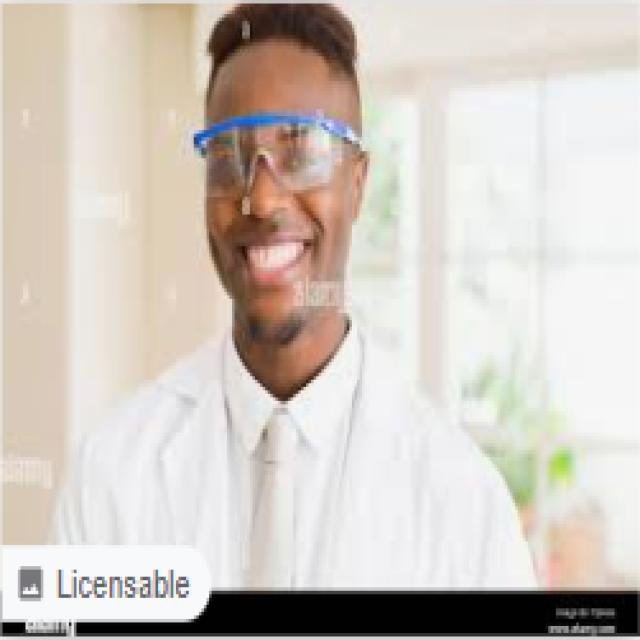glasses: (193, 109, 378, 195)
